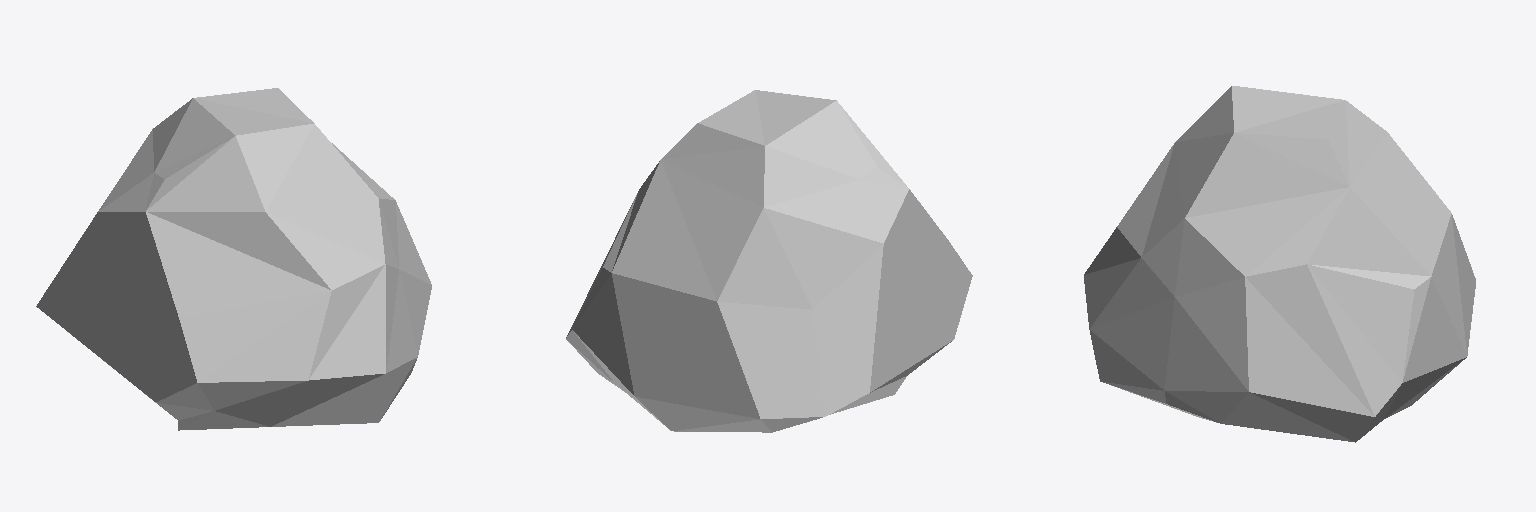
The model's file is Rock_1.obj.
The picture shows the model from 3 angles: view 1: azimuth 30°, elevation 25°; view 2: azimuth 150°, elevation 25°; view 3: azimuth 270°, elevation 25°; orthographic projection.
Parts seen in each view (by area): view 1: Cube.079_Cube.227; view 2: Cube.079_Cube.227; view 3: Cube.079_Cube.227.
Part boxes in pixels (left/top/right/bottom): Cube.079_Cube.227: left=36, top=88, right=431, bottom=430; Cube.079_Cube.227: left=566, top=90, right=972, bottom=432; Cube.079_Cube.227: left=1084, top=86, right=1475, bottom=442.
Size of the model in its own units: 1.23 by 1.08 by 1.3.